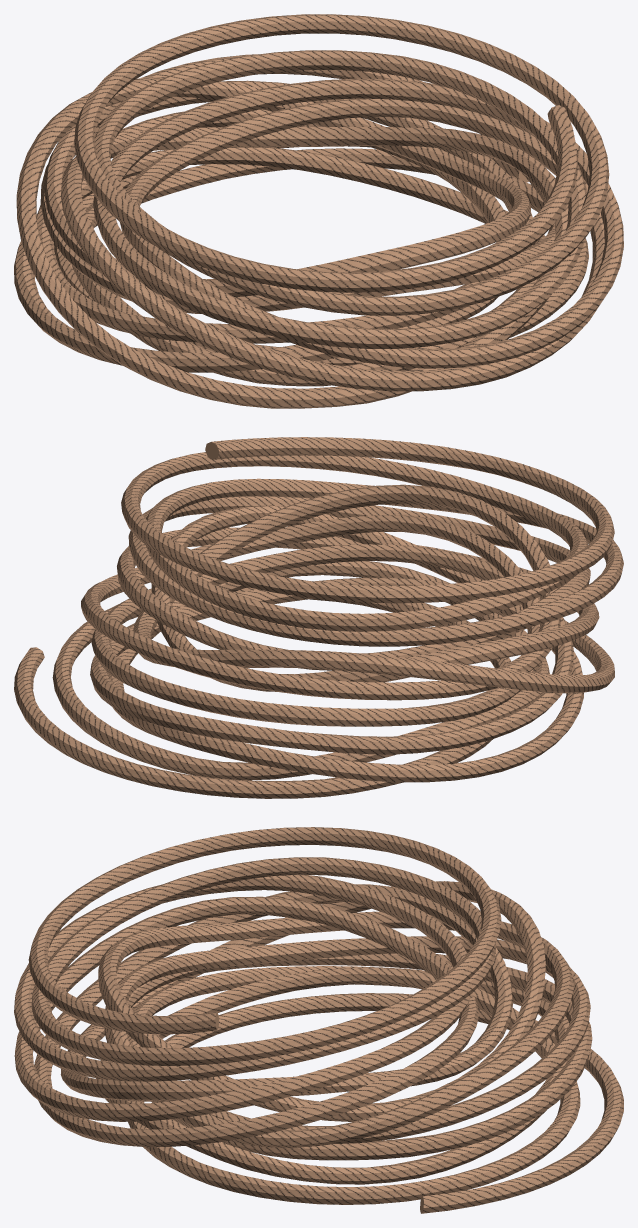
Rendered from rope_1.fbx.
3 views of the same model, one above another, from view 1: azimuth 30°, elevation 25°; view 2: azimuth 150°, elevation 25°; view 3: azimuth 270°, elevation 25° (orthographic). The views are drawn at different scales.
Parts seen in each view (by area): view 1: rope_1_before_physics1; view 2: rope_1_before_physics1; view 3: rope_1_before_physics1.
Boxes of the visible parts, x1=… form: rope_1_before_physics1: x1=14, y1=14, x2=623, y2=408; rope_1_before_physics1: x1=14, y1=437, x2=623, y2=798; rope_1_before_physics1: x1=14, y1=827, x2=623, y2=1213.
Bounding box in the file's own units: 0.6201 × 0.2099 × 0.649.
Materials: 1 (1 with a texture image).
